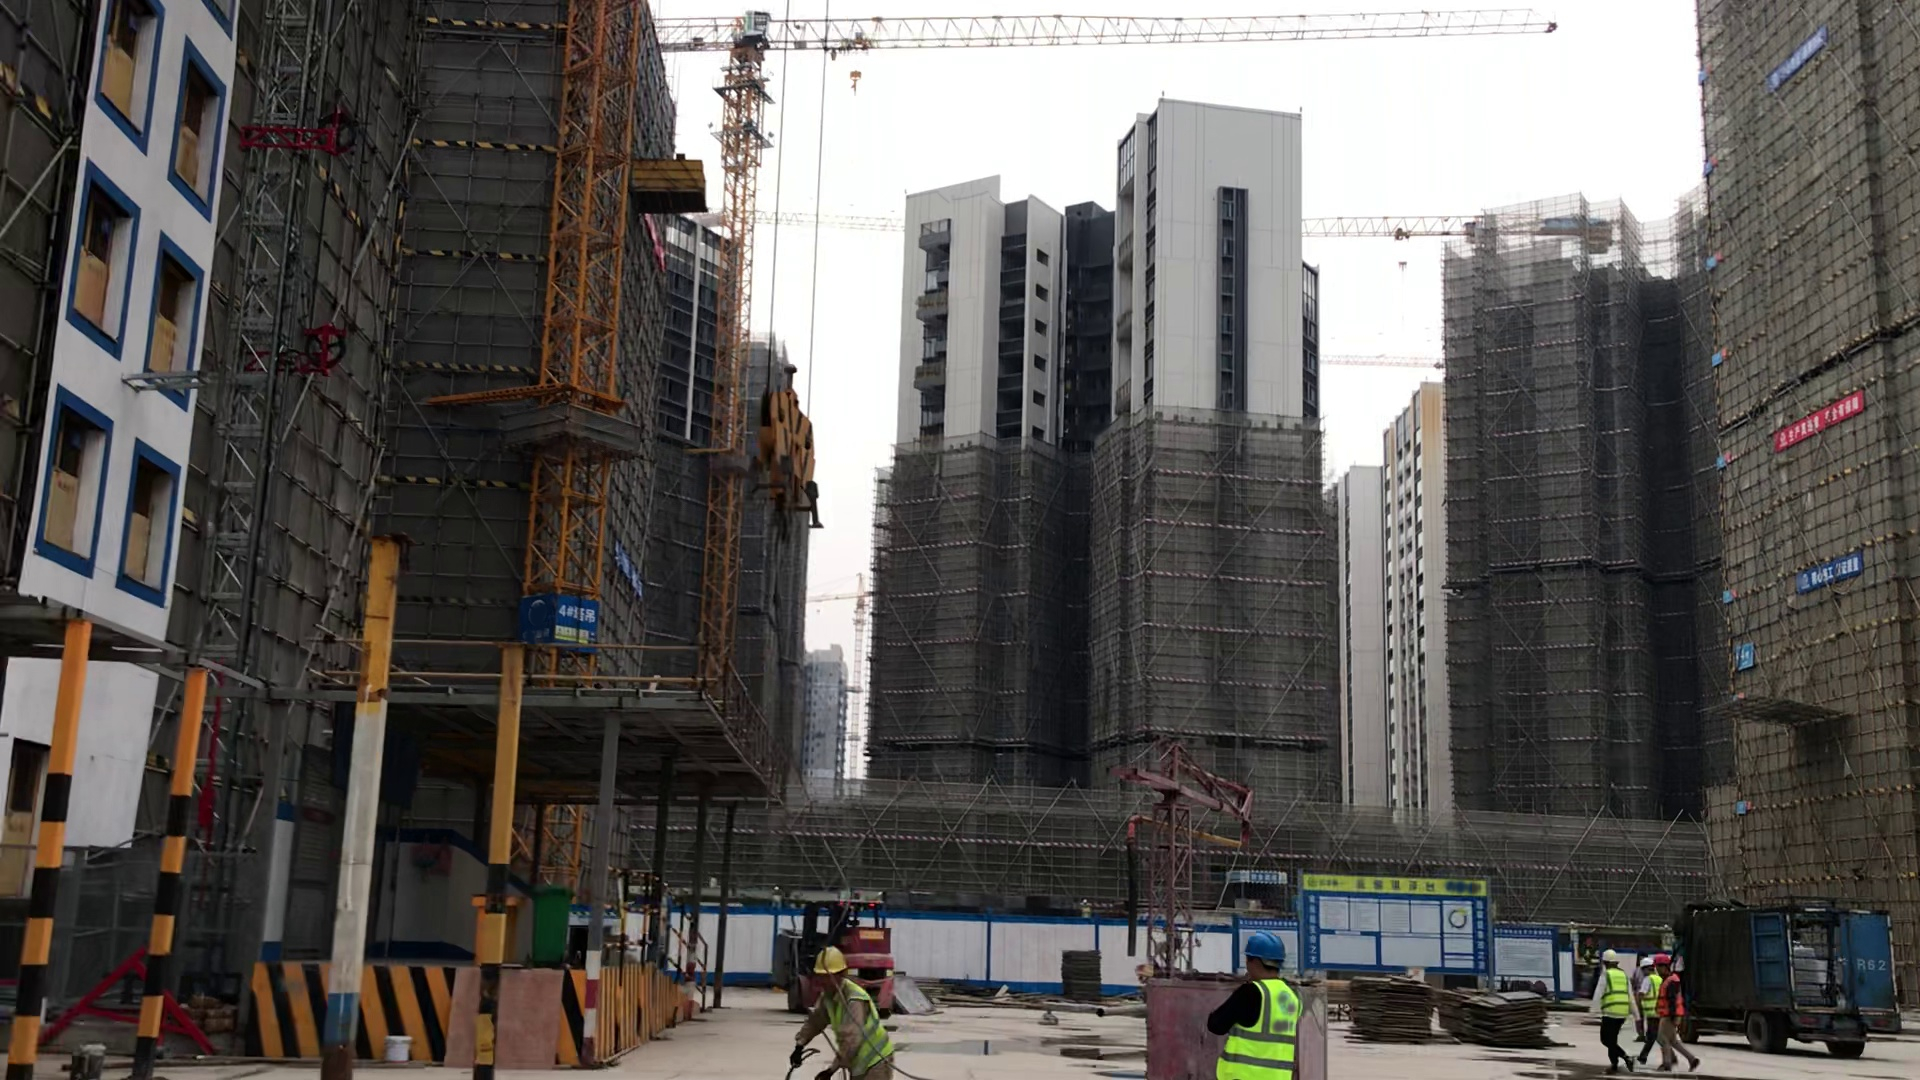board: (1434, 966, 1556, 1047), (1345, 970, 1441, 1045)
fence: (600, 850, 730, 1030)
helmet: (1232, 924, 1298, 977), (801, 938, 867, 985), (1588, 937, 1627, 974), (1652, 953, 1675, 974), (1634, 955, 1655, 976)
hook: (708, 346, 841, 565)
person: (767, 938, 917, 1080), (1198, 916, 1319, 1080), (1575, 938, 1633, 1080), (1650, 949, 1708, 1076), (1627, 945, 1658, 1066)
slogan: (1292, 864, 1495, 985), (1760, 385, 1873, 465), (514, 578, 603, 666), (1784, 535, 1873, 611), (1764, 23, 1844, 93), (604, 531, 653, 615), (1213, 861, 1294, 897), (1731, 632, 1767, 688)
vest: (1213, 969, 1300, 1080), (806, 982, 906, 1074), (1649, 970, 1688, 1021), (1593, 970, 1629, 1025), (1636, 971, 1659, 1022)
